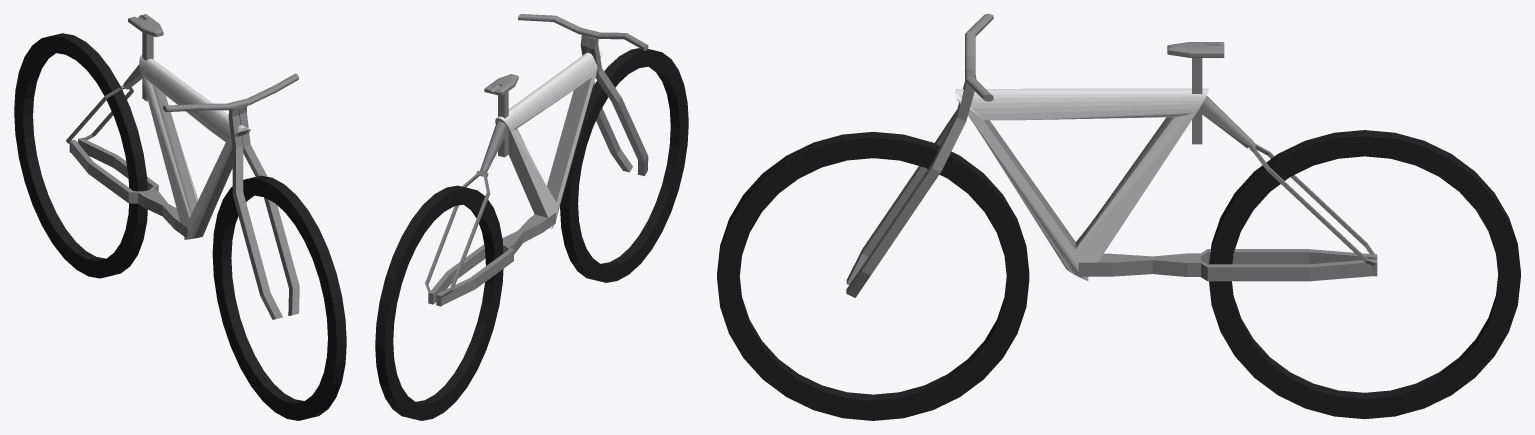
The model's file is Fiets.fbx.
The picture shows the model from 3 angles, left to right: view 1: azimuth 30°, elevation 25°; view 2: azimuth 150°, elevation 25°; view 3: azimuth 270°, elevation 25°; orthographic projection. The views are drawn at different scales.
Visible parts, largest first — view 1: Cube; view 2: Cube; view 3: Cube.
Part boxes in pixels (<box>): Cube: <box>14,14,346,420</box>; Cube: <box>375,14,688,420</box>; Cube: <box>717,14,1520,420</box>.
Size of the model in its own units: 186 by 397 by 781.
